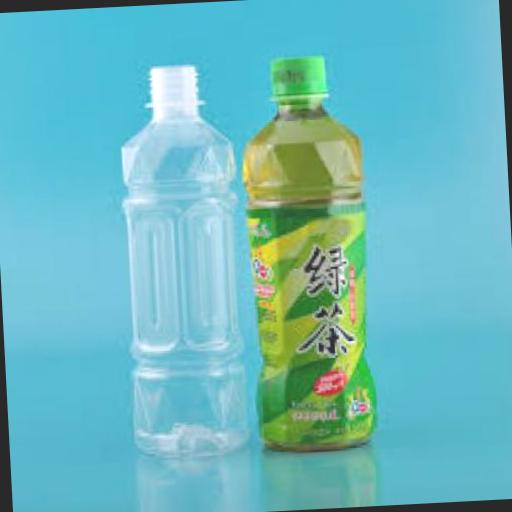plastic: (238, 51, 379, 451), (113, 60, 246, 460), (245, 194, 376, 451), (267, 50, 328, 100)
